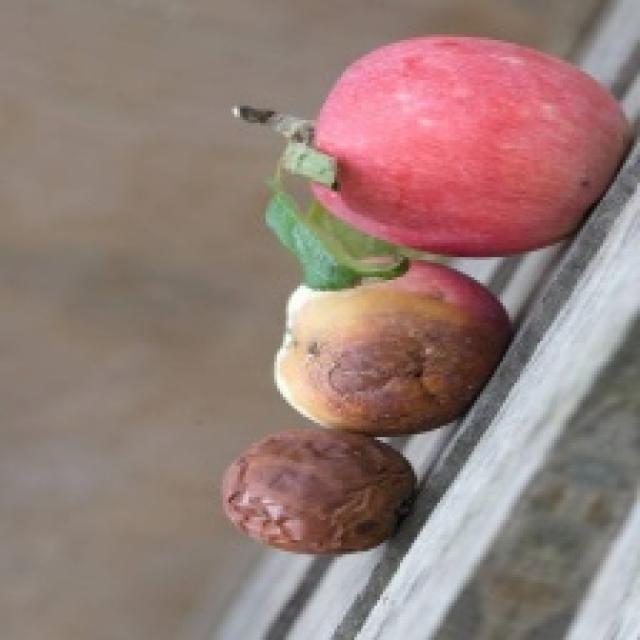apple: (308, 37, 628, 257), (276, 264, 509, 435), (223, 427, 416, 554)
